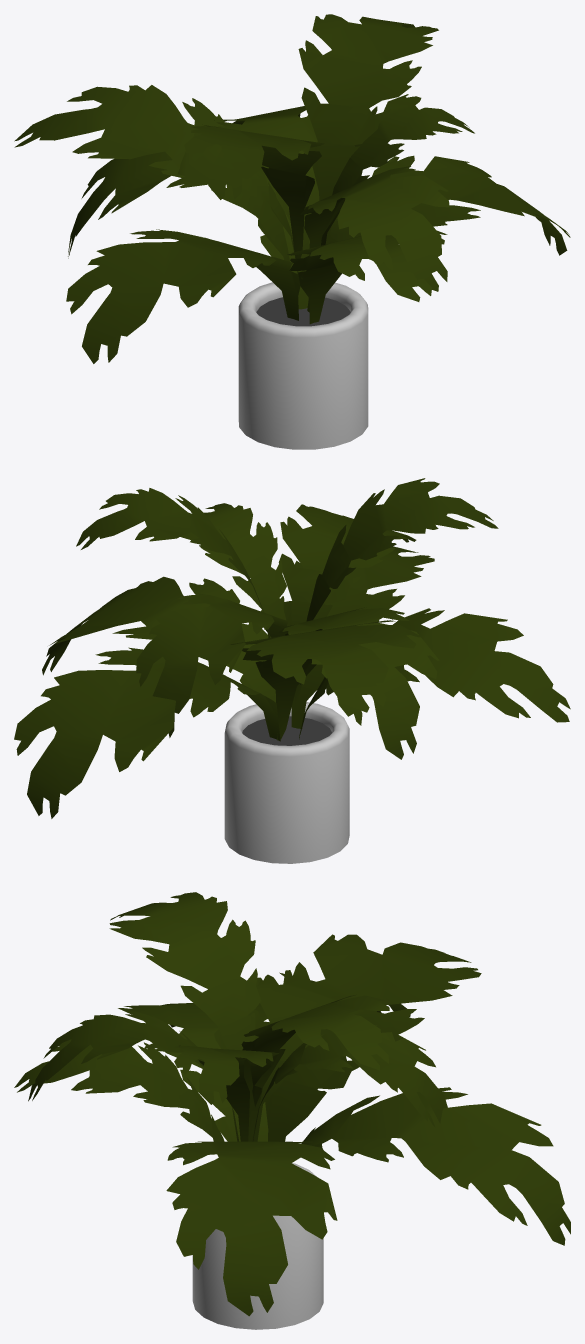
File: Plant.FBX
The picture shows the model from 3 angles, top to bottom: view 1: azimuth 30°, elevation 25°; view 2: azimuth 150°, elevation 25°; view 3: azimuth 270°, elevation 25°; orthographic projection. The views are drawn at different scales.
Visible parts, largest first — view 1: green, Object01; view 2: green, Object01; view 3: green, Object01.
Boxes of the visible parts, box(x1,y1,x2,y2) form: green: box(14, 14, 570, 363); Object01: box(238, 282, 368, 449); green: box(14, 478, 570, 818); Object01: box(224, 702, 349, 863); green: box(14, 892, 570, 1316); Object01: box(192, 1163, 323, 1329).
Size of the model in its own units: 88.52 by 56.93 by 84.65.
